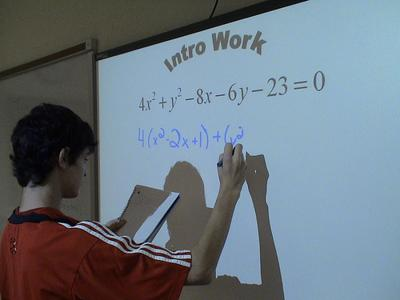person: (4, 102, 248, 300)
